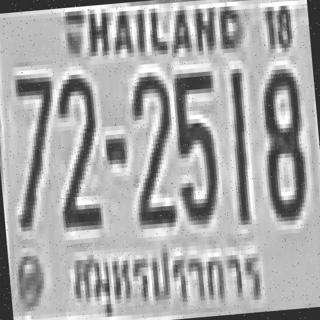N01: (225, 66, 252, 223)
N02: (49, 71, 103, 225), (126, 69, 178, 223)
N05: (169, 67, 222, 221)
N07: (8, 71, 61, 229), (11, 70, 62, 224)
N08: (256, 64, 307, 218)
P57: (64, 227, 268, 320)
